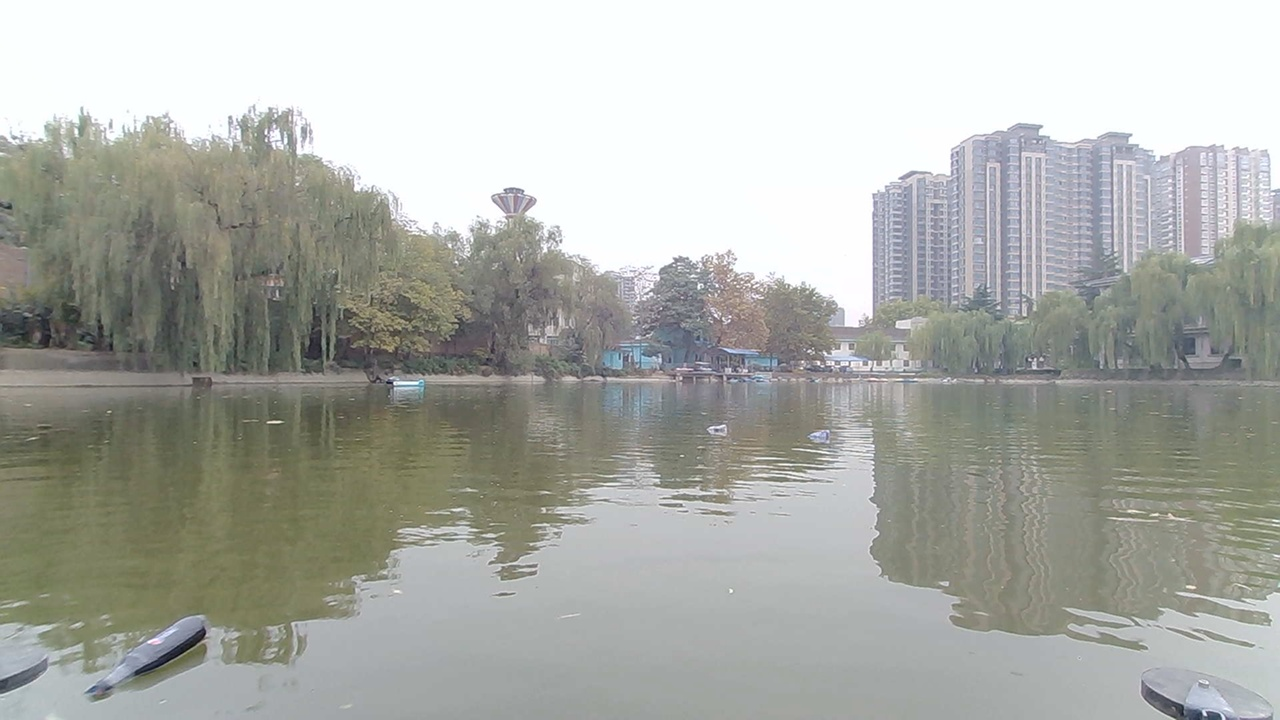bottle: (89, 587, 238, 684), (698, 412, 737, 438), (809, 429, 842, 446)
